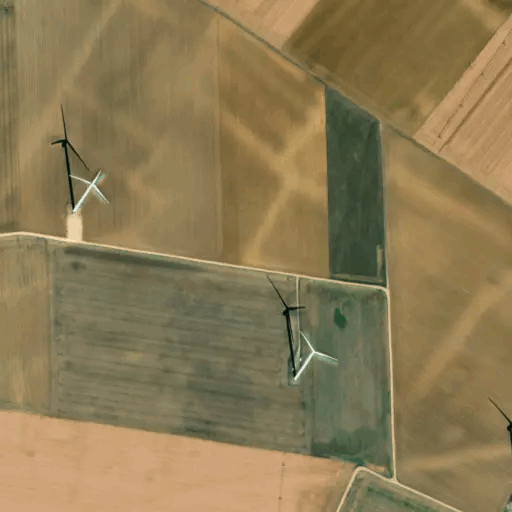wt: (260, 271, 341, 389), (47, 99, 115, 220)
